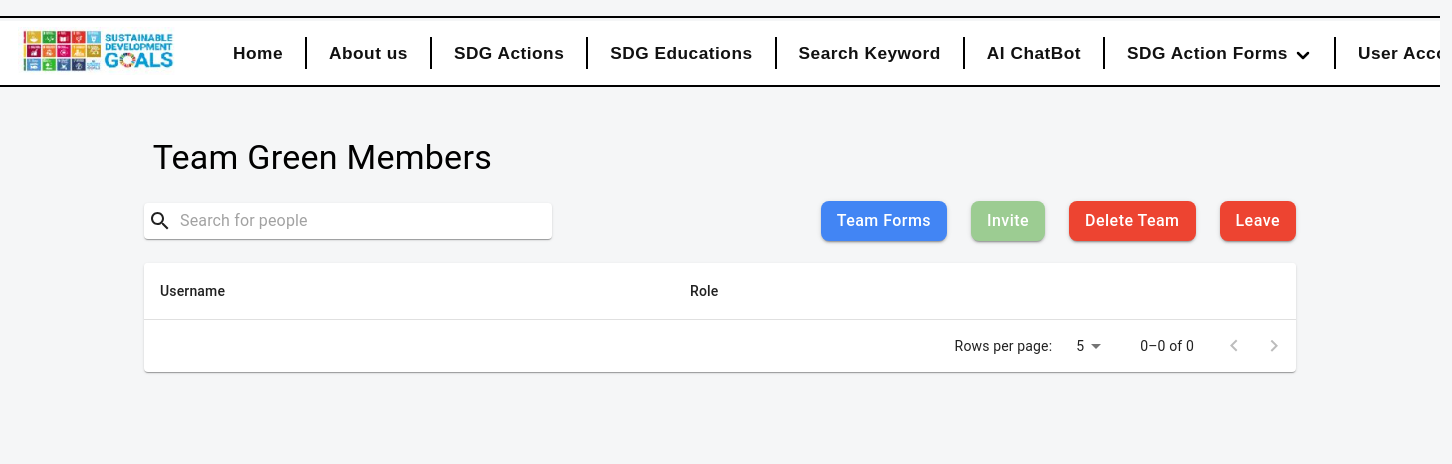
Test case: Team › should filter users by name
Step 1. Type "Test2" into the field with placeholder "Search for people" → (364, 221), box x1=180 y1=205 x2=548 y2=237
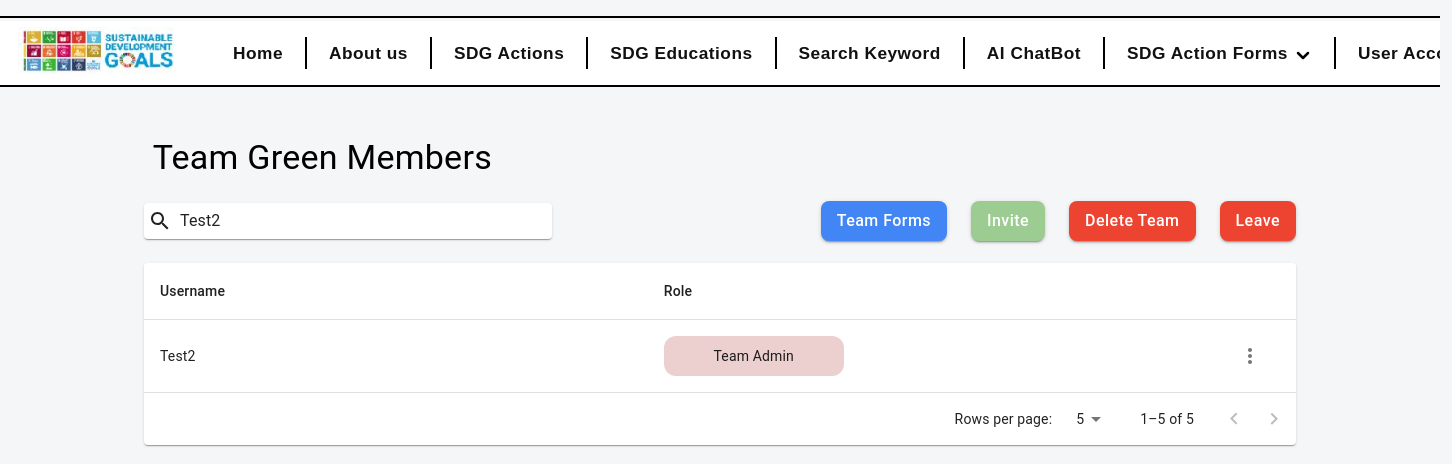
Now the text "Test2" is shown, box x1=144 y1=320 x2=648 y2=393
